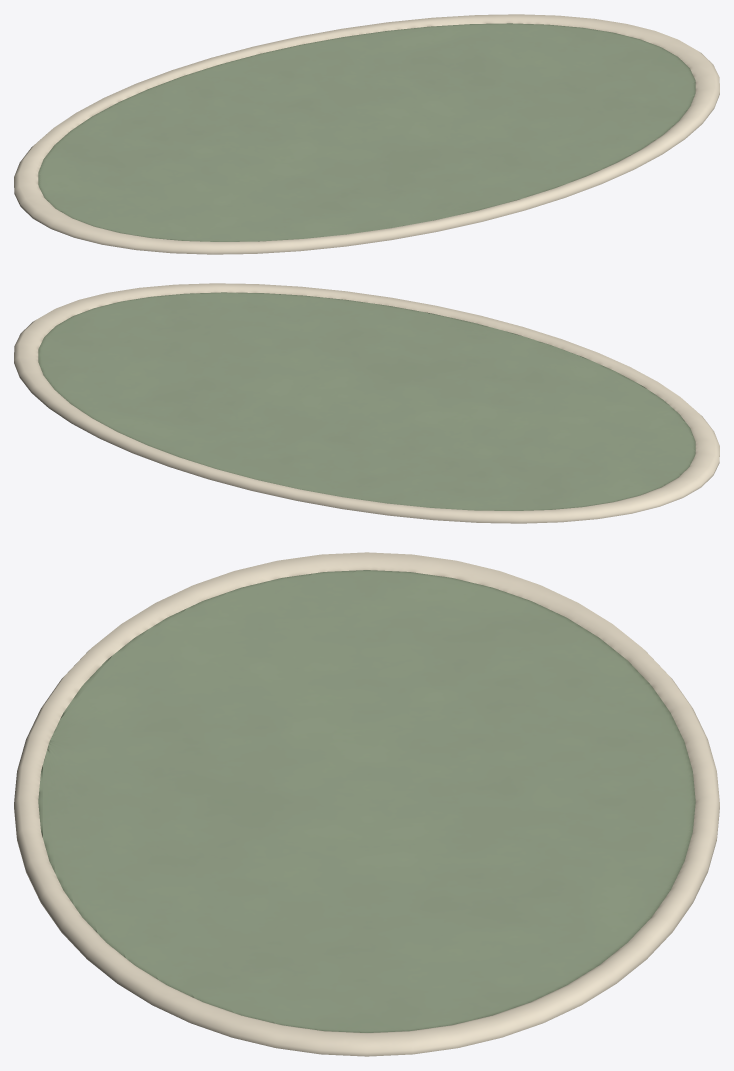
The model's file is rug-oval.glb.
3 renders of one model, top to bottom at view 1: azimuth 30°, elevation 25°; view 2: azimuth 150°, elevation 25°; view 3: azimuth 270°, elevation 25°, orthographic. The views are drawn at different scales.
Visible parts, largest first — view 1: rug-oval; view 2: rug-oval; view 3: rug-oval.
Boxes of the visible parts, x1,y1,x2,y2 form: rug-oval: (14,14,719,254); rug-oval: (14,283,719,523); rug-oval: (14,552,719,1056).
Size of the model in its own units: 2 by 0.02 by 1.2.
1 material, 1 textured.
